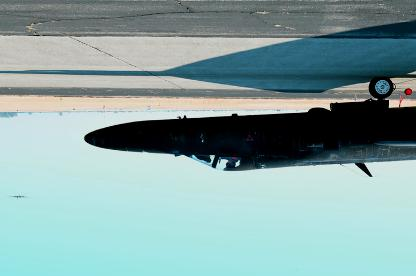Tu160: (84, 76, 415, 178), (3, 195, 34, 200)
